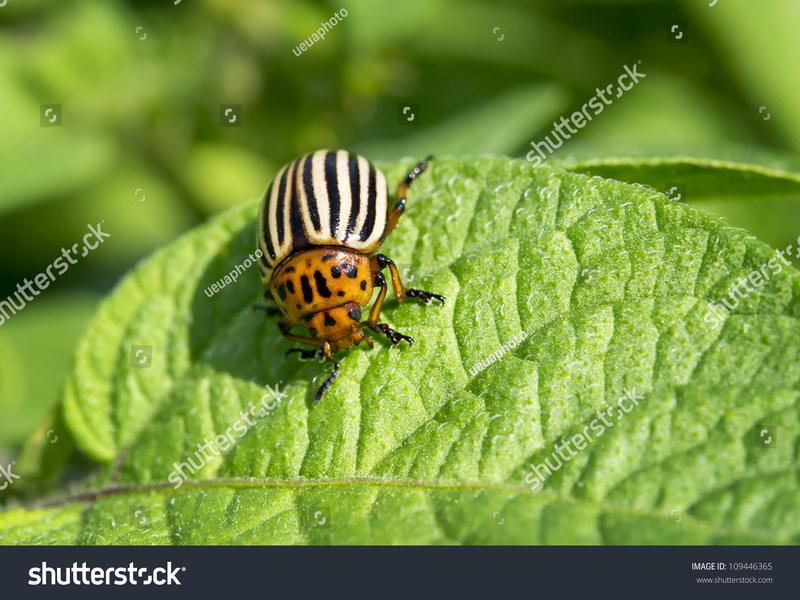hrosc: (237, 132, 414, 358)
